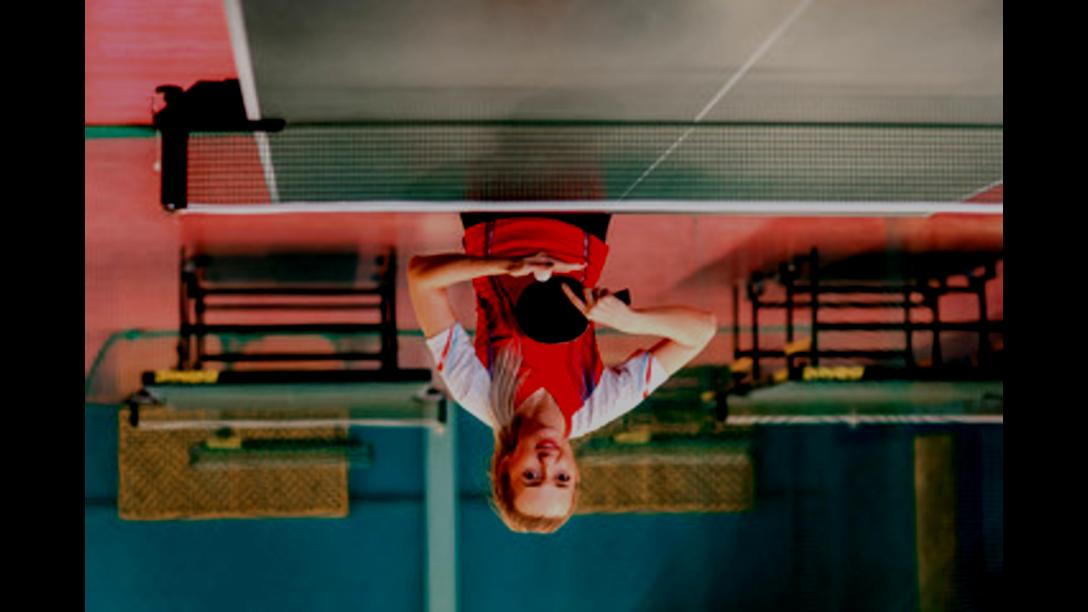Table-Tennis-Ball: (534, 272, 550, 282)
